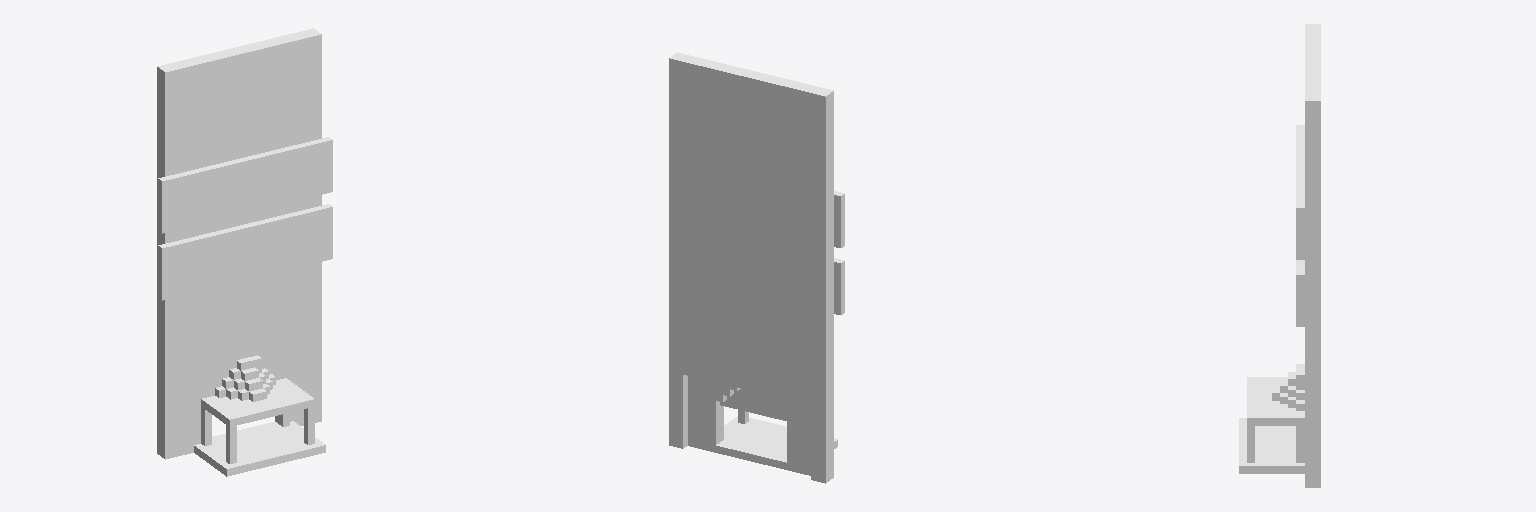
File: FrontWall.obj
The picture shows the model from 3 angles: view 1: azimuth 30°, elevation 25°; view 2: azimuth 150°, elevation 25°; view 3: azimuth 270°, elevation 25°; orthographic projection.
Parts seen in each view (by area): view 1: FrontWall; view 2: FrontWall; view 3: FrontWall.
Boxes of the visible parts, <box> form: FrontWall: <box>157,28,332,476</box>; FrontWall: <box>669,52,844,483</box>; FrontWall: <box>1239,24,1320,487</box>.
Size of the model in its own units: 24 by 52 by 10.